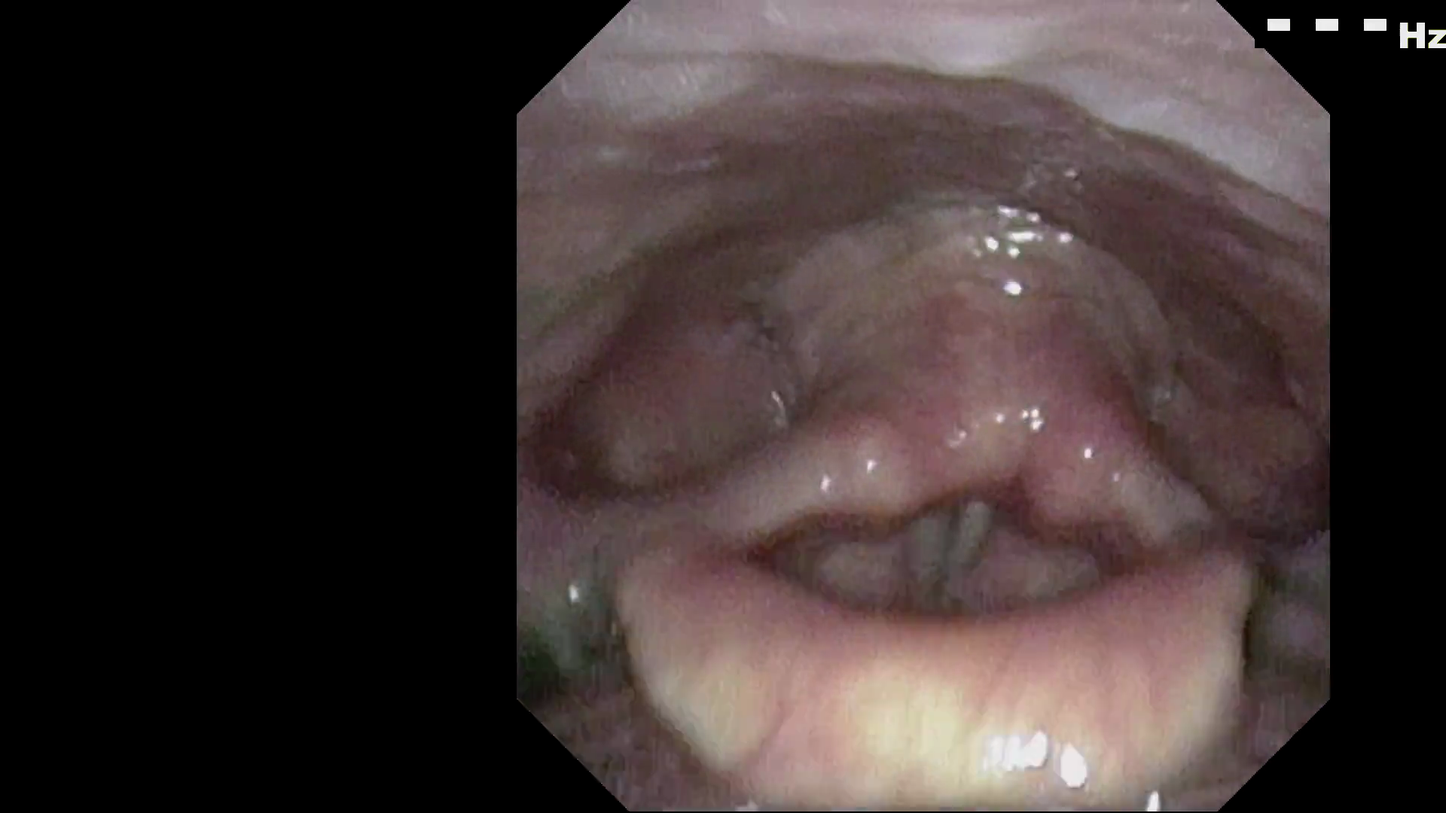epiglottis: (565, 523, 1297, 775)
trachea: (885, 445, 1041, 634)
